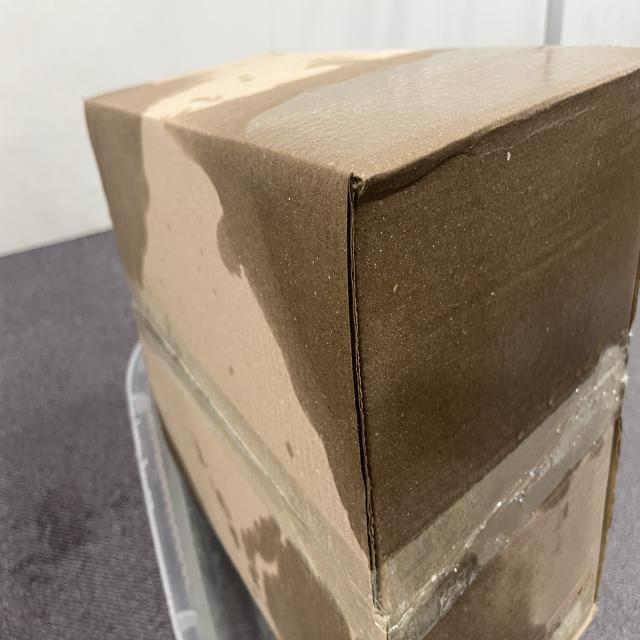wet: (198, 50, 626, 556), (66, 74, 188, 282)
